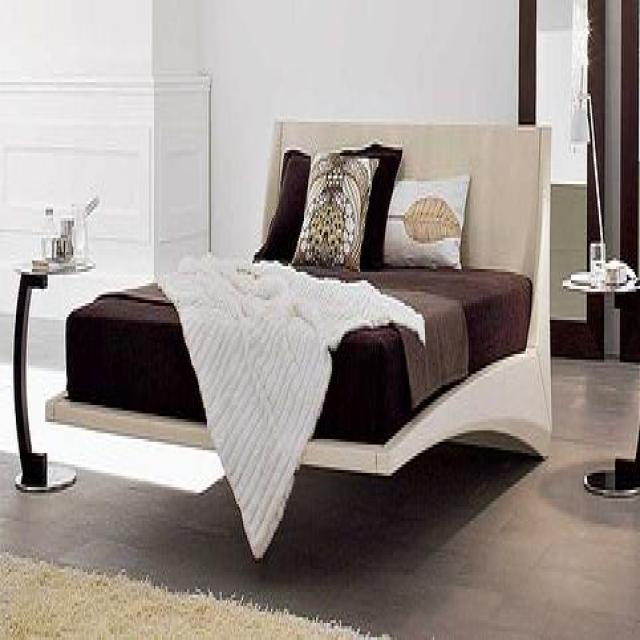bed: (43, 120, 531, 567)
